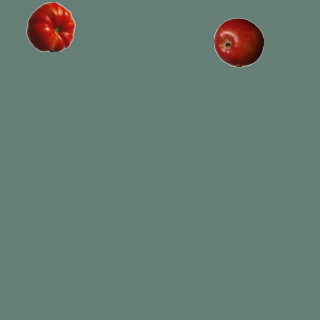Apple Braeburn: (213, 17, 263, 67)
Tomato 3: (25, 1, 75, 51)
